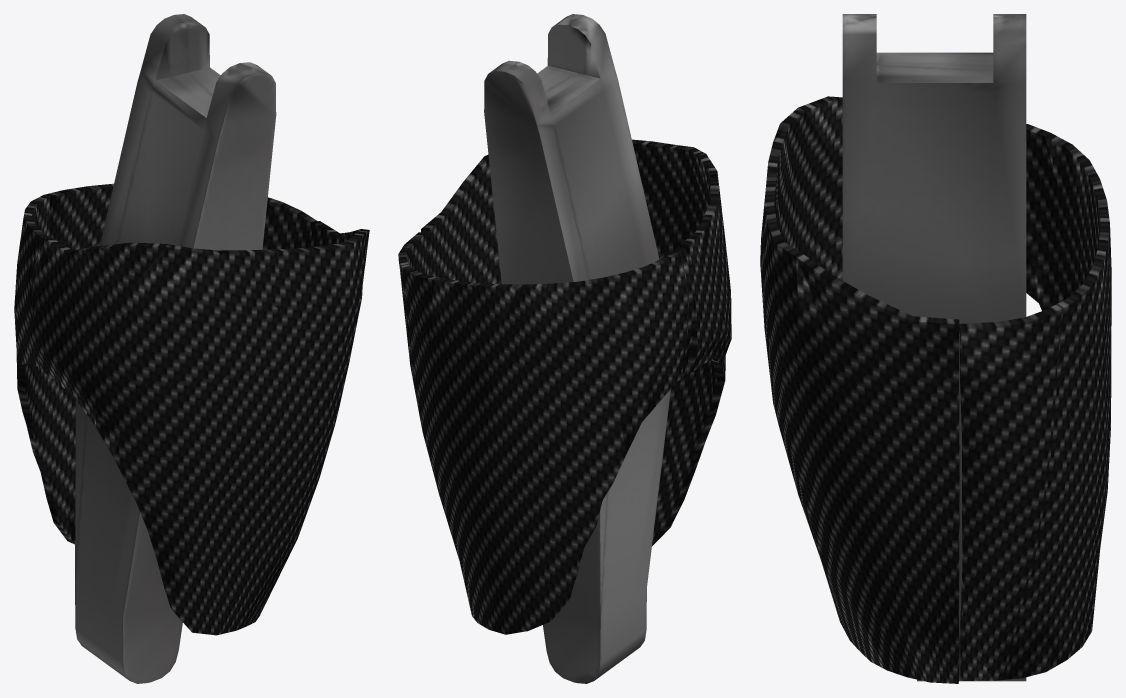
The model's file is r_lug.dae.
The picture shows the model from 3 angles, left to right: view 1: azimuth 30°, elevation 25°; view 2: azimuth 150°, elevation 25°; view 3: azimuth 270°, elevation 25°; orthographic projection. The views are drawn at different scales.
Parts seen in each view (by area): view 1: p23207_1, p40535, p22795_1; view 2: p22795_1, p40535, p23207_1; view 3: p23207_1, p22795_1, p40535.
Part boxes in pixels (box(x1,y1,x2,y2)): p23207_1: box(34, 221, 369, 635); p40535: box(75, 14, 276, 683); p22795_1: box(14, 183, 317, 544); p22795_1: box(398, 232, 694, 634); p40535: box(484, 14, 670, 683); p23207_1: box(421, 139, 731, 545); p23207_1: box(760, 96, 959, 683); p22795_1: box(959, 124, 1111, 680); p40535: box(842, 14, 1026, 681).
Size of the model in its own units: 0.2001 by 0.1865 by 0.4091.
Materials: 2 (2 with a texture image).
